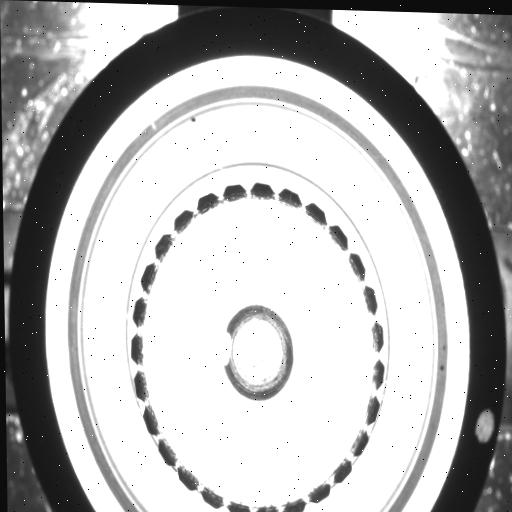gear: (122, 176, 393, 512)
